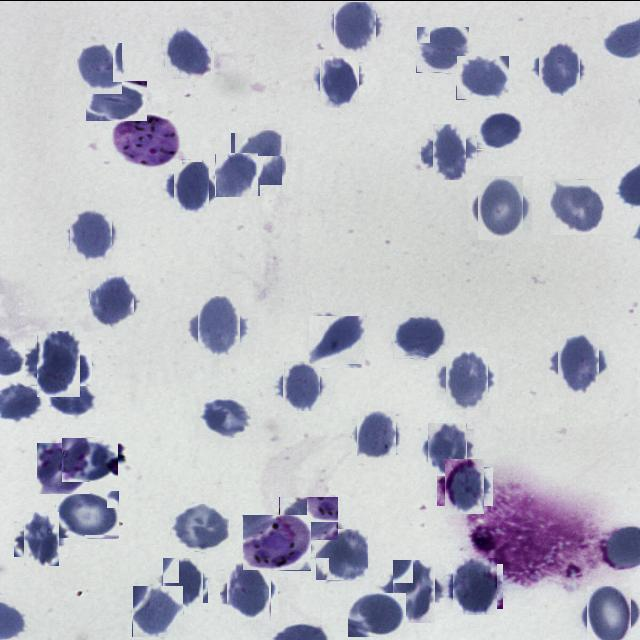difficult: (112, 114, 182, 166)
red blood cell: (550, 178, 605, 234), (55, 490, 119, 538), (31, 336, 86, 391), (472, 180, 528, 234), (170, 503, 229, 551), (193, 301, 246, 354), (312, 312, 364, 366), (388, 564, 440, 617), (441, 352, 493, 404), (552, 336, 604, 388), (316, 528, 368, 580), (232, 130, 284, 182), (584, 588, 635, 640), (223, 565, 274, 616), (449, 560, 500, 611), (132, 586, 184, 636), (279, 496, 338, 540), (348, 592, 406, 636), (162, 27, 212, 76), (535, 42, 584, 92), (330, 0, 380, 49), (75, 42, 124, 92), (86, 80, 147, 120), (416, 26, 469, 72), (62, 437, 118, 480), (456, 55, 509, 99), (88, 276, 136, 324), (424, 424, 471, 472), (441, 462, 489, 509), (393, 316, 446, 358), (68, 210, 114, 258), (198, 398, 252, 438), (168, 162, 214, 208), (316, 58, 362, 104), (426, 128, 472, 174), (354, 412, 400, 457), (160, 560, 206, 604), (18, 516, 64, 560), (279, 363, 323, 407), (216, 152, 260, 195), (476, 111, 524, 149), (47, 380, 95, 416)
ring: (37, 440, 90, 492)
trophozoite: (242, 514, 311, 570)
